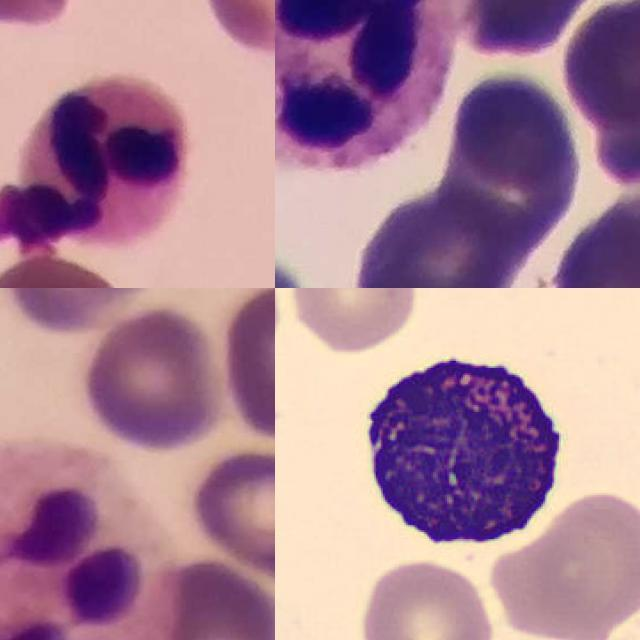Basophil: (344, 340, 575, 558)
Neutrophil: (0, 74, 187, 267), (0, 440, 179, 640), (275, 0, 450, 172)
RBC: (487, 484, 640, 640), (353, 554, 497, 640), (286, 288, 420, 357)
